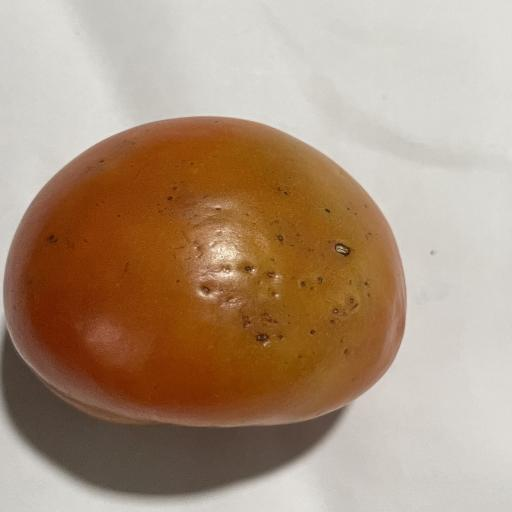unripe: (4, 117, 405, 427)
